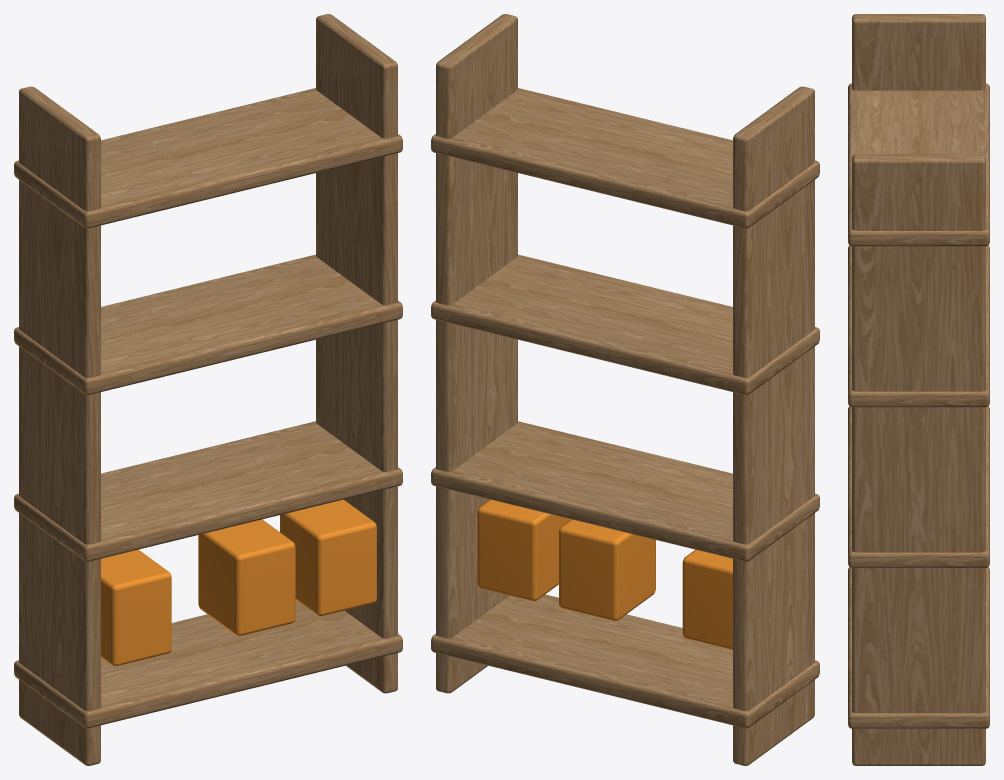
File: open_kitchen_shelf_light_oak.glb
3 views of the same model, side by side, from view 1: azimuth 30°, elevation 25°; view 2: azimuth 150°, elevation 25°; view 3: azimuth 270°, elevation 25° (orthographic). The views are drawn at different scales.
Visible parts, largest first — view 1: upright, upright.001, shelf.002, shelf.003, shelf.001, shelf, storage tin.001, storage tin.002, storage tin; view 2: upright, upright.001, shelf.002, shelf.003, shelf.001, shelf, storage tin.001, storage tin.002, storage tin; view 3: upright.001, shelf.003, upright, shelf.002, shelf, shelf.001.
Part boxes in pixels (x1,y1,x2,y2): upright: [19, 86, 100, 765]; upright.001: [316, 14, 397, 693]; shelf.002: [14, 254, 402, 394]; shelf.003: [14, 88, 402, 228]; shelf.001: [14, 421, 402, 561]; shelf: [14, 600, 402, 728]; storage tin.001: [198, 519, 295, 635]; storage tin.002: [280, 499, 376, 615]; storage tin: [101, 549, 171, 665]; upright: [733, 86, 814, 765]; upright.001: [436, 14, 517, 693]; shelf.002: [431, 254, 819, 394]; shelf.003: [431, 88, 819, 228]; shelf.001: [431, 421, 819, 561]; shelf: [431, 594, 819, 728]; storage tin.001: [559, 519, 655, 620]; storage tin.002: [477, 499, 570, 600]; storage tin: [682, 549, 732, 649]; upright.001: [852, 154, 985, 765]; shelf.003: [848, 83, 989, 246]; upright: [852, 14, 985, 90]; shelf.002: [848, 245, 989, 407]; shelf: [848, 567, 989, 728]; shelf.001: [848, 406, 989, 567].
Size of the model in its own units: 0.9 by 1.7 by 0.36.
2 materials, 1 textured.
